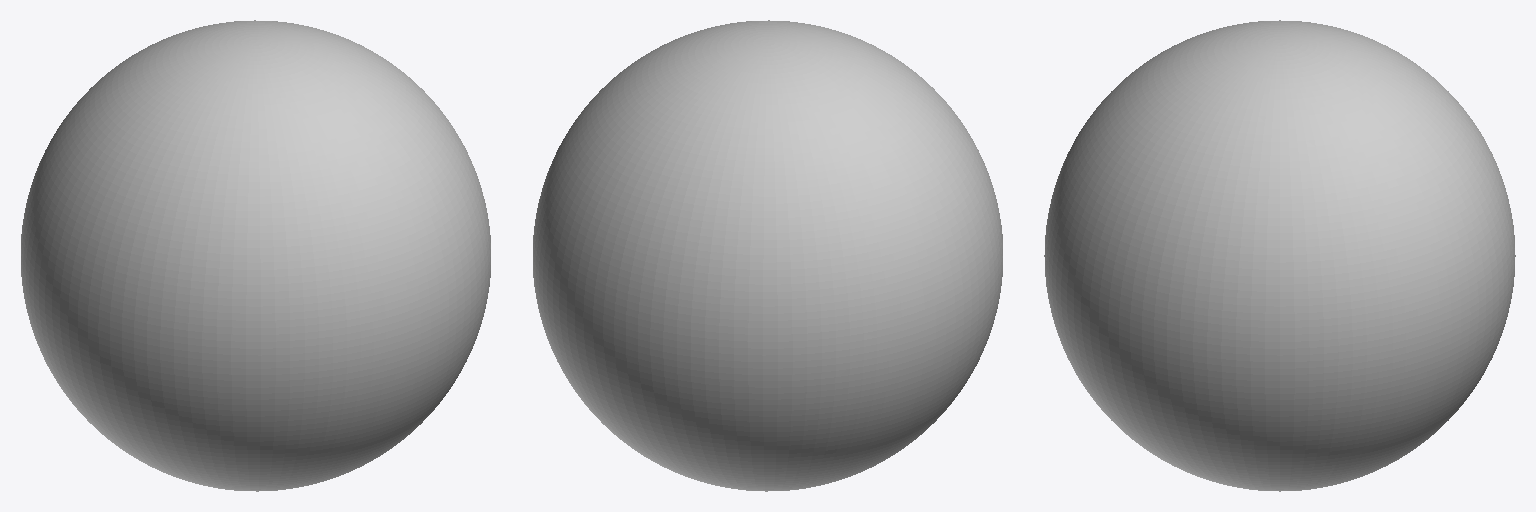
Rendered from sphere_hd_smooth.obj.
3 renders of one model, left to right at view 1: azimuth 30°, elevation 25°; view 2: azimuth 150°, elevation 25°; view 3: azimuth 270°, elevation 25°, orthographic.
Visible parts, largest first — view 1: Sphere_Sphere.001; view 2: Sphere_Sphere.001; view 3: Sphere_Sphere.001.
Part boxes in pixels (bbox=[...]): Sphere_Sphere.001: bbox=[21, 20, 490, 491]; Sphere_Sphere.001: bbox=[533, 20, 1002, 491]; Sphere_Sphere.001: bbox=[1044, 20, 1515, 491].
Size of the model in its own units: 2 by 2 by 2.